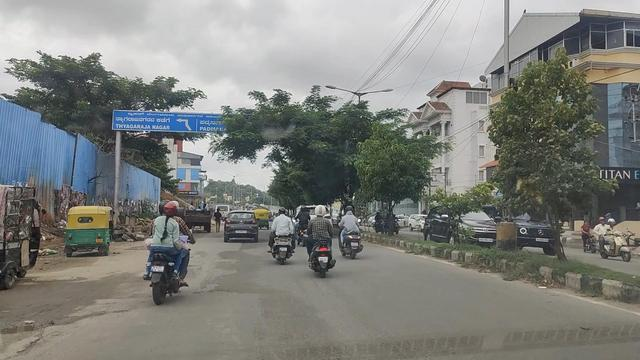LMV: (149, 204, 192, 303), (67, 206, 110, 254), (307, 202, 330, 270), (223, 211, 260, 242), (273, 206, 291, 262), (337, 202, 355, 254)
RoadDamages: (1, 314, 59, 360), (59, 284, 121, 326), (199, 251, 247, 302)
